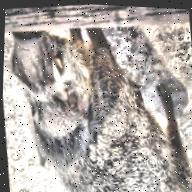boar: (15, 1, 192, 192)
